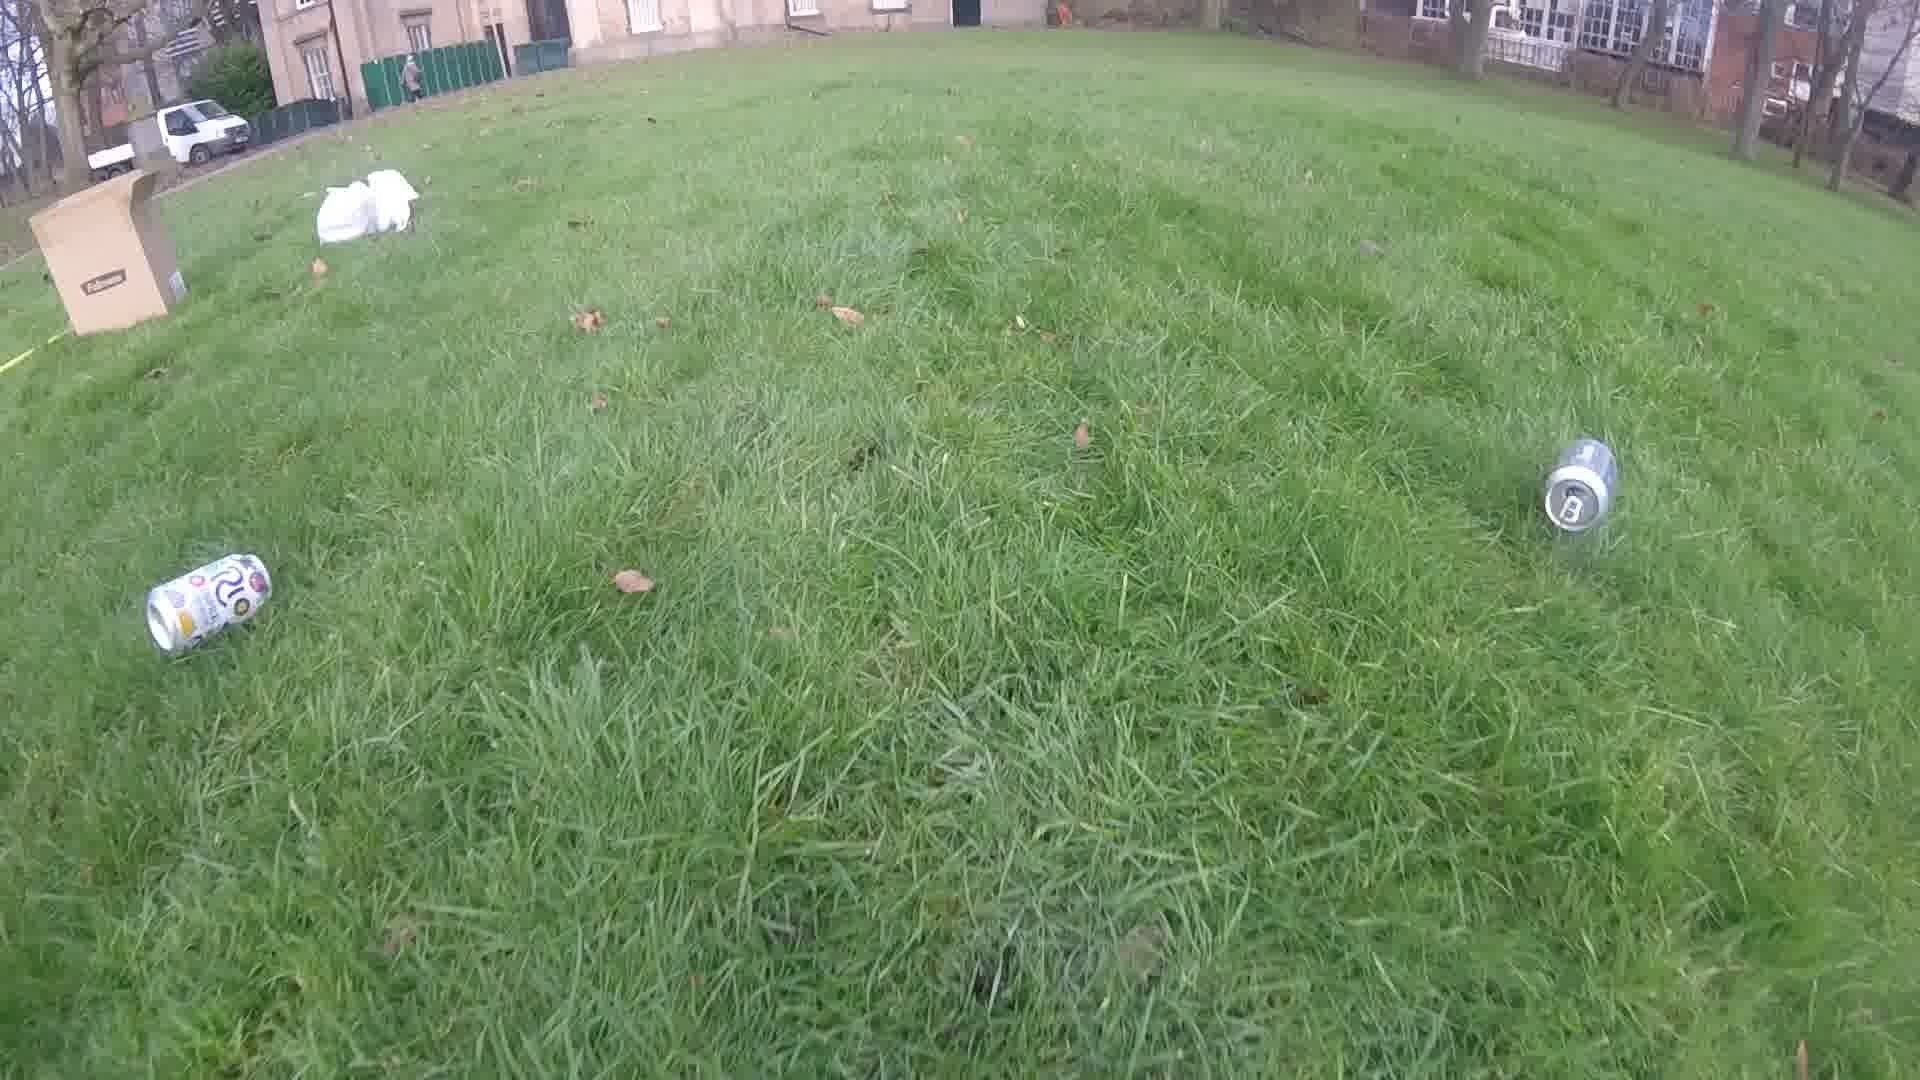litter: (28, 167, 185, 342), (146, 550, 276, 657), (316, 166, 421, 244), (1544, 440, 1617, 531)
